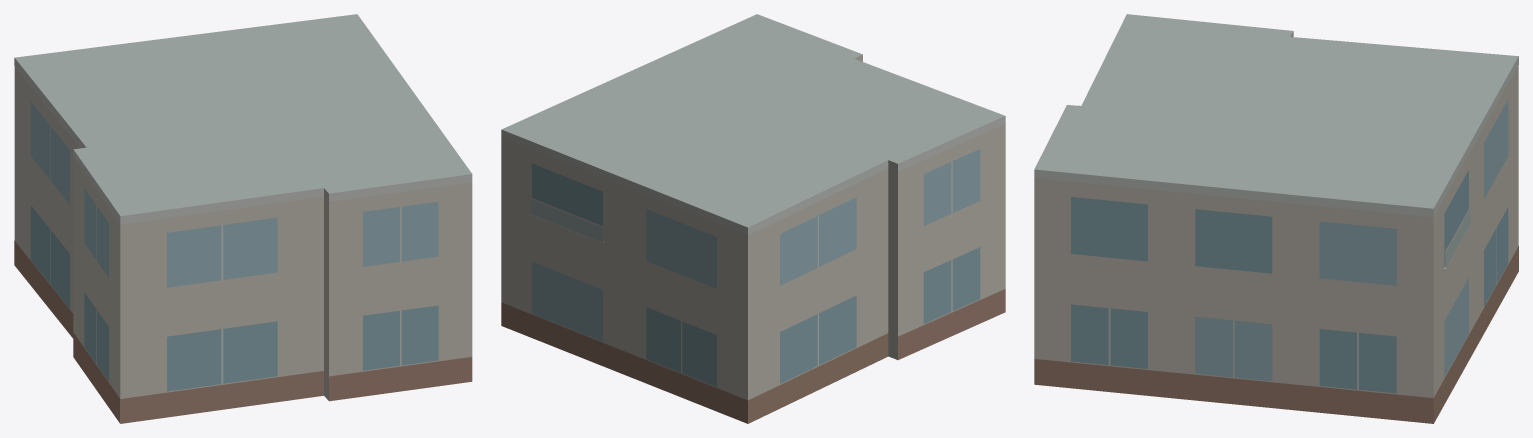
Rendered from survey-upis-32656228.glb.
3 views of the same model, side by side, from view 1: azimuth 30°, elevation 25°; view 2: azimuth 150°, elevation 25°; view 3: azimuth 270°, elevation 25° (orthographic). The views are drawn at different scales.
Parts seen in each view (by area): view 1: survey-upis-32656228.tmp; view 2: survey-upis-32656228.tmp; view 3: survey-upis-32656228.tmp.
Part boxes in pixels (bbox=[...]): survey-upis-32656228.tmp: bbox=[14, 14, 472, 423]; survey-upis-32656228.tmp: bbox=[501, 14, 1005, 423]; survey-upis-32656228.tmp: bbox=[1034, 14, 1518, 423].
Bounding box in the file's own units: 11.85 × 6.1 × 12.46.
